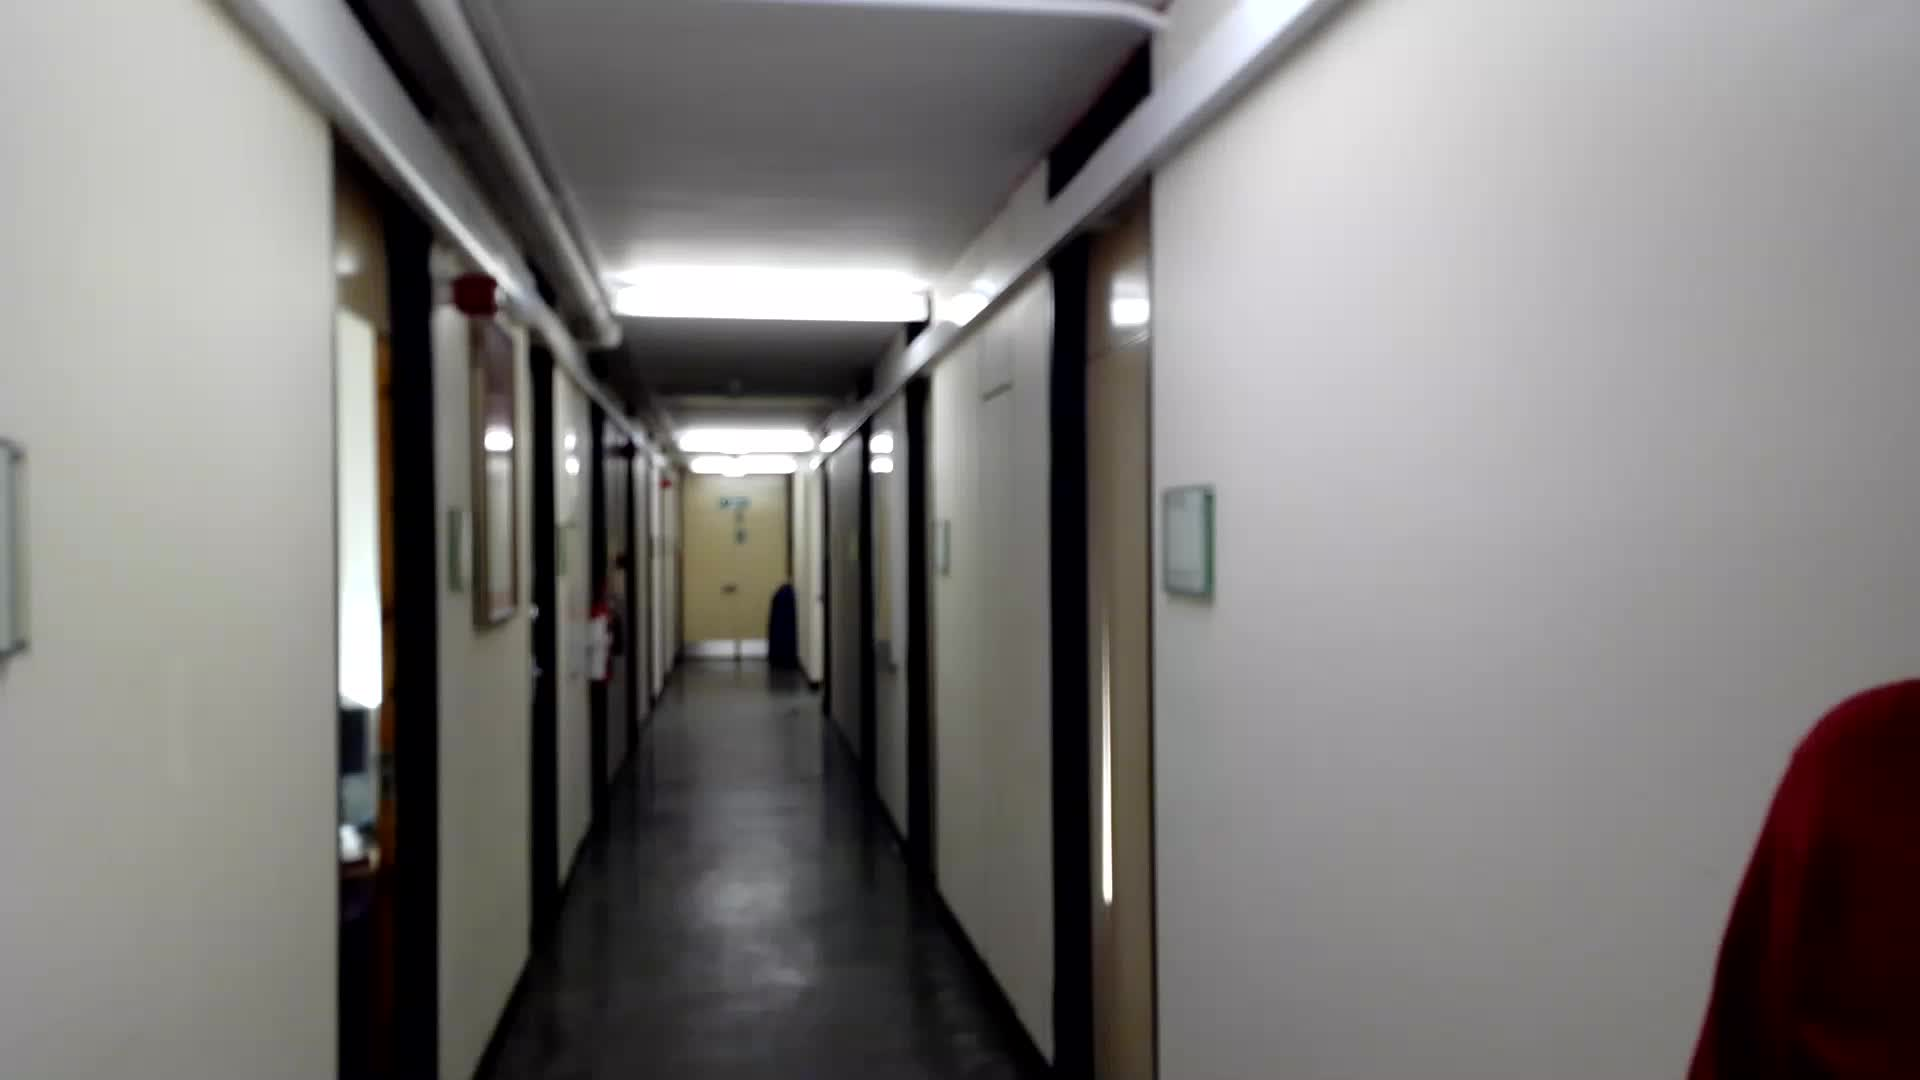Door: (324, 109, 447, 1080), (1048, 162, 1156, 1076)
